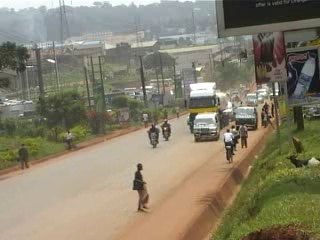Motorcycle: (145, 121, 160, 149), (160, 119, 174, 141)
